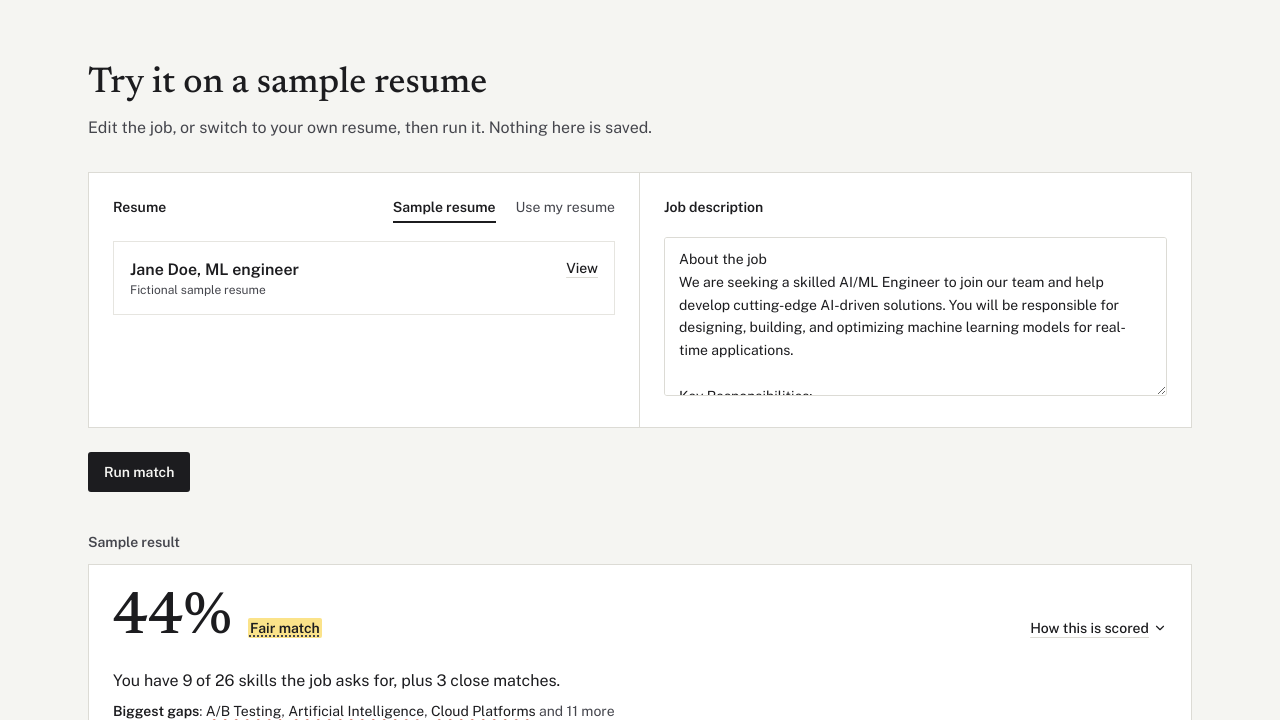
Test: asks for a file when 'Use my resume' has none
Click the button "Use my resume": [565, 210] box [516,197,615,223]
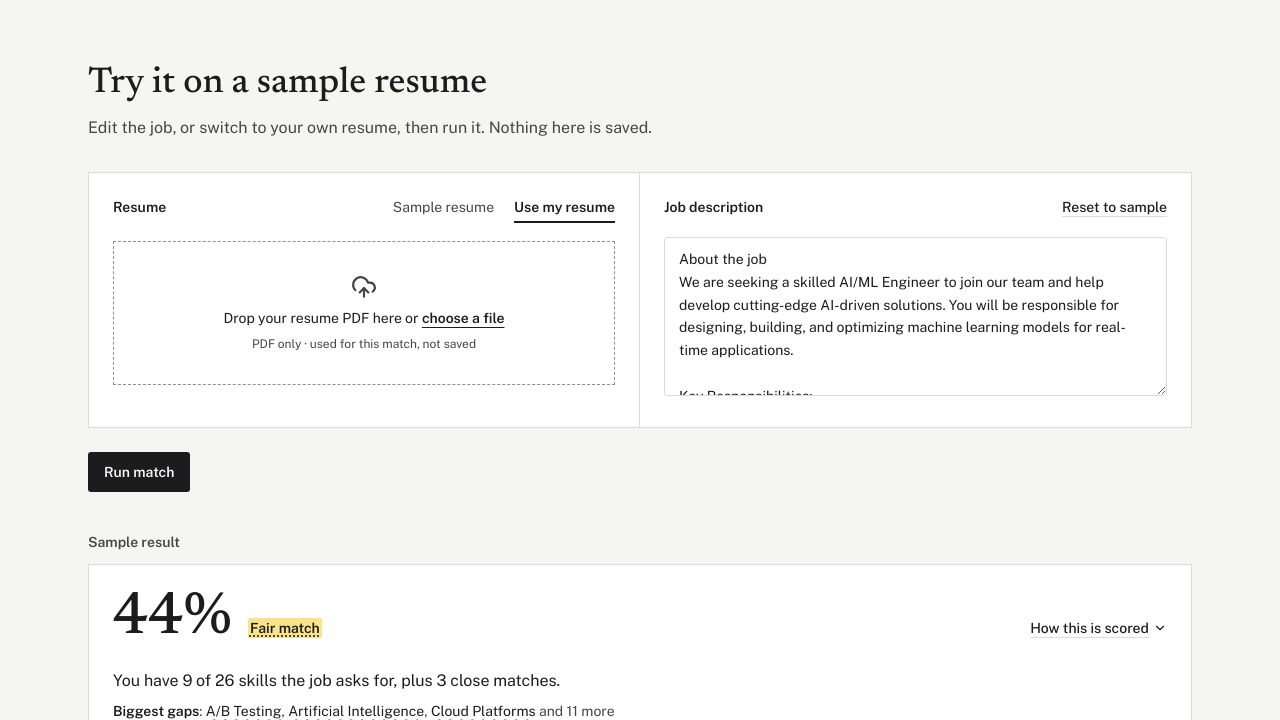
Click the button "Run match": [139, 472] box [88,452,190,492]
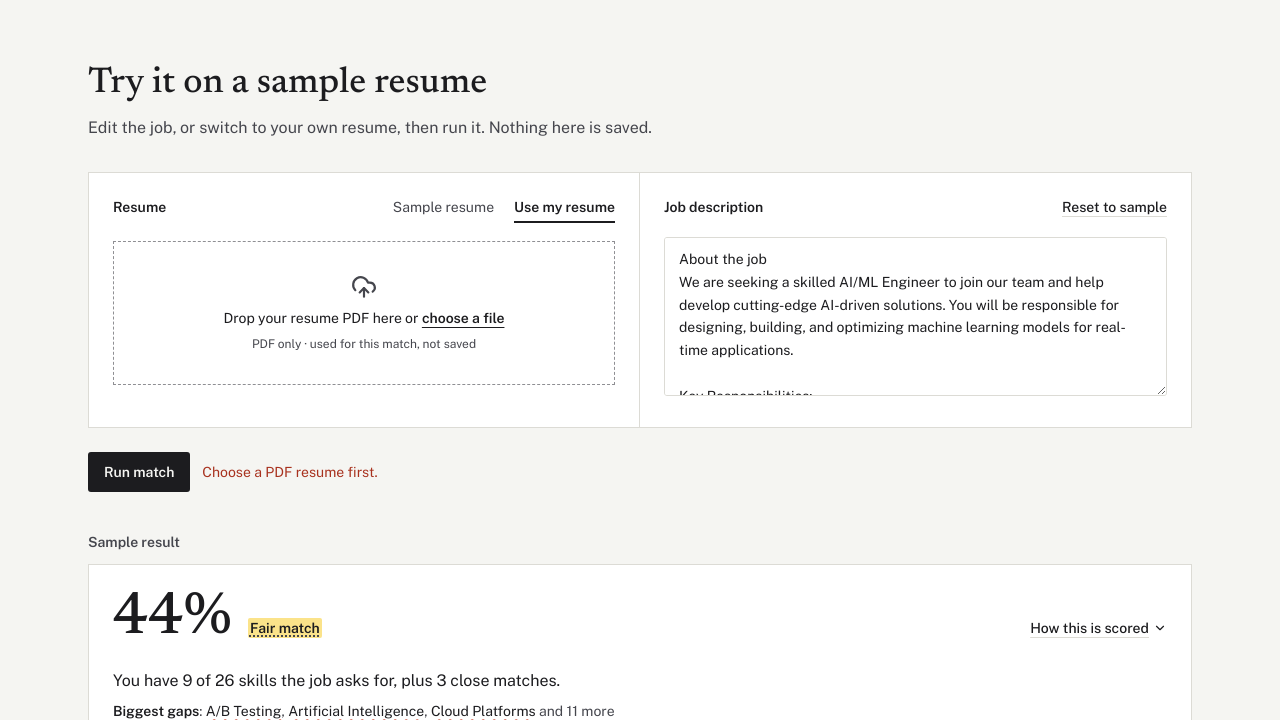
Check: the text "Choose a PDF resume first." is shown, box [202,462,378,482]
